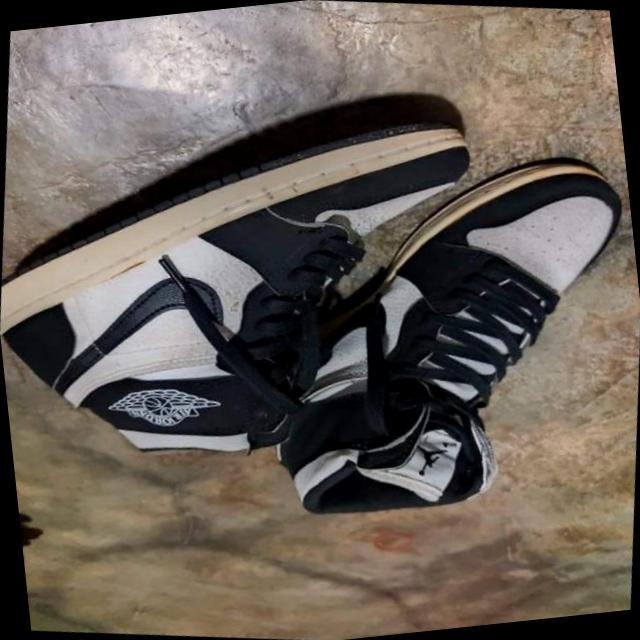nike_fake_jordan: (0, 49, 509, 512), (211, 111, 640, 567)
